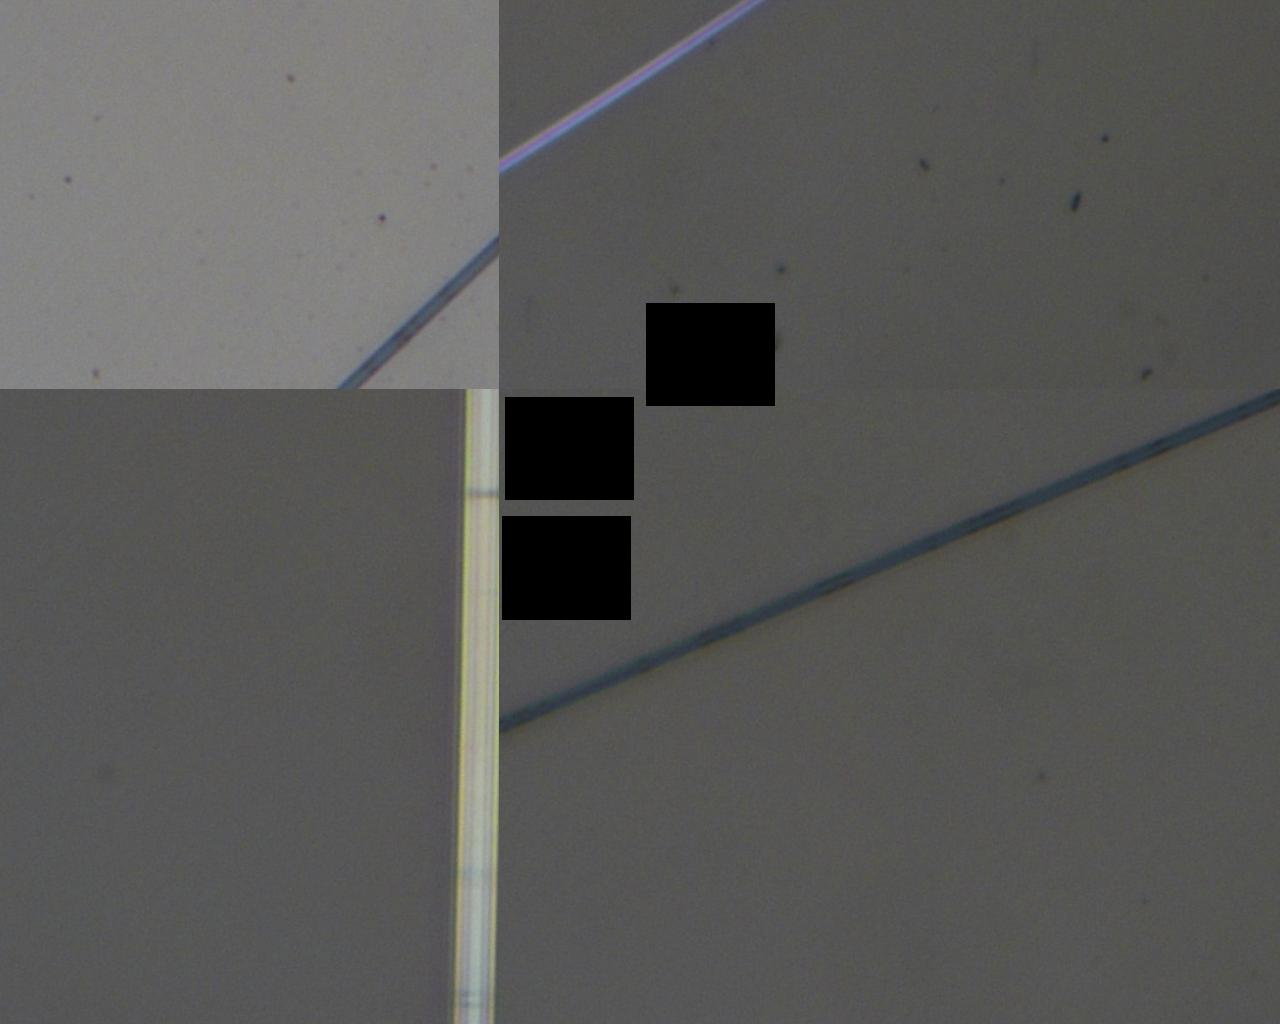fiber: (106, 210, 1280, 732)
